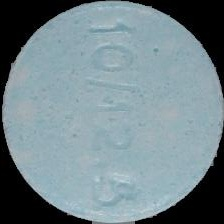0615-7581: (0, 0, 224, 224)
